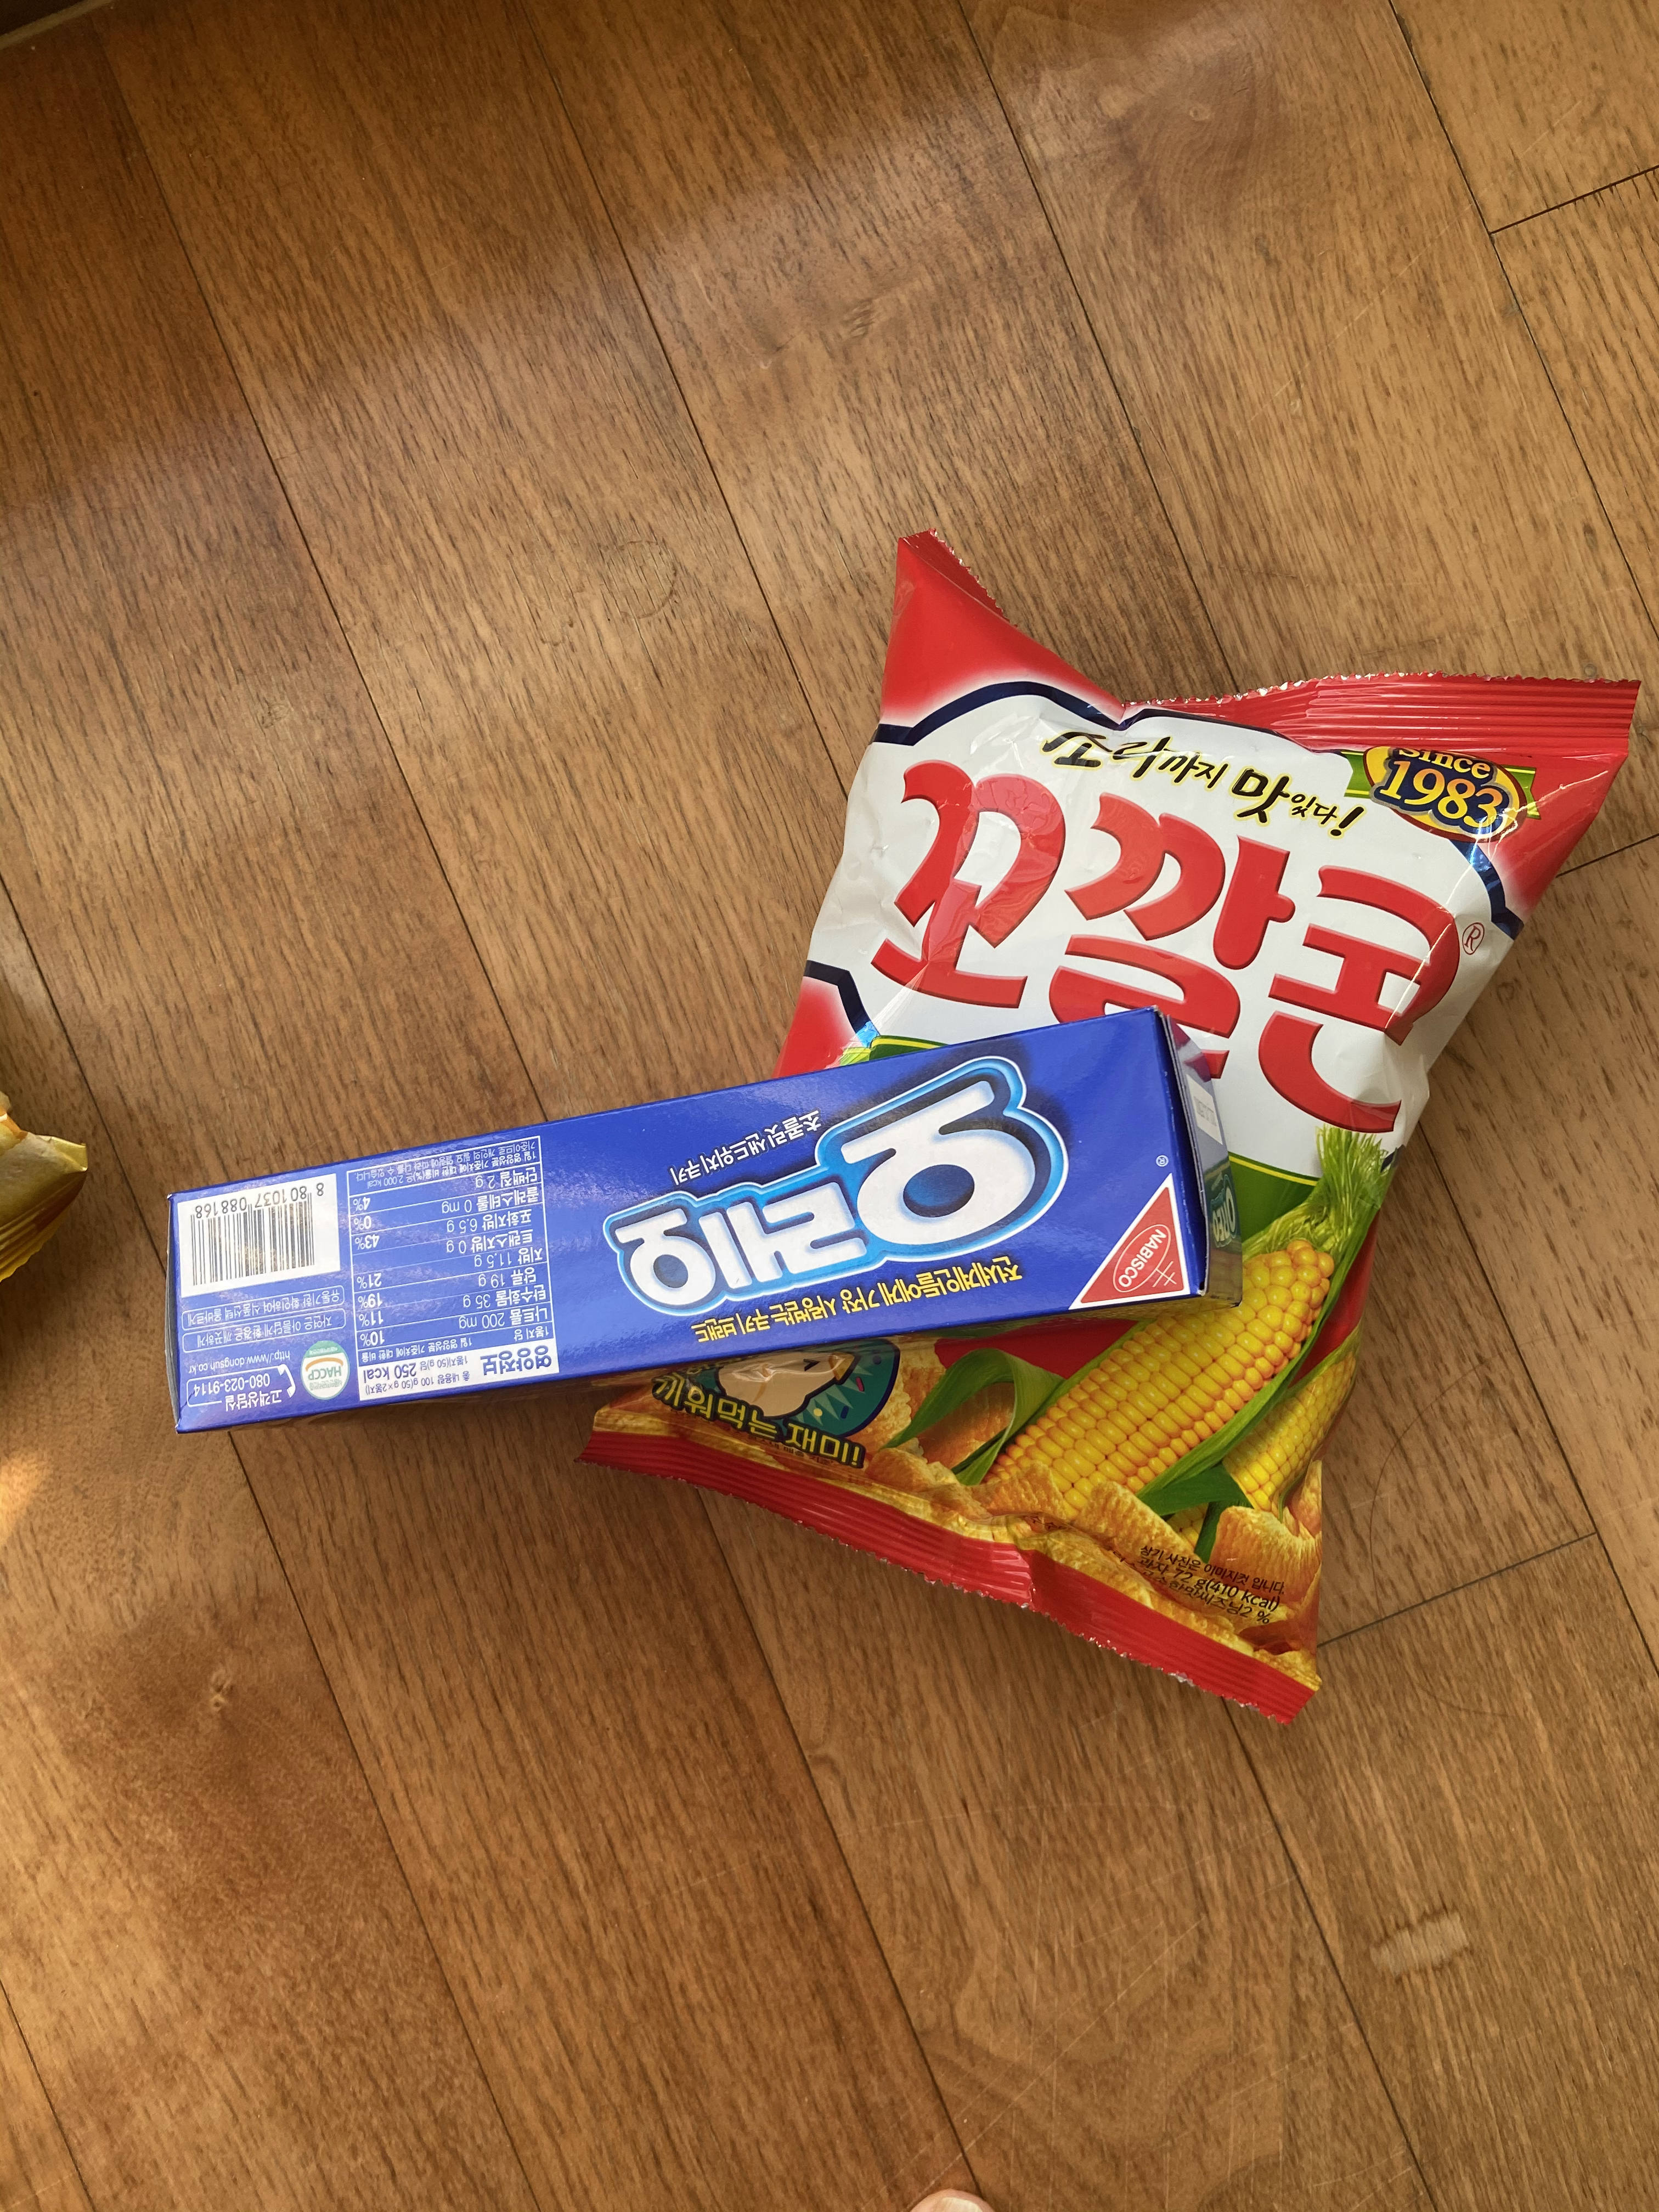ggoggalcon: (579, 516, 1649, 1728)
oreo: (153, 993, 1262, 1446)
